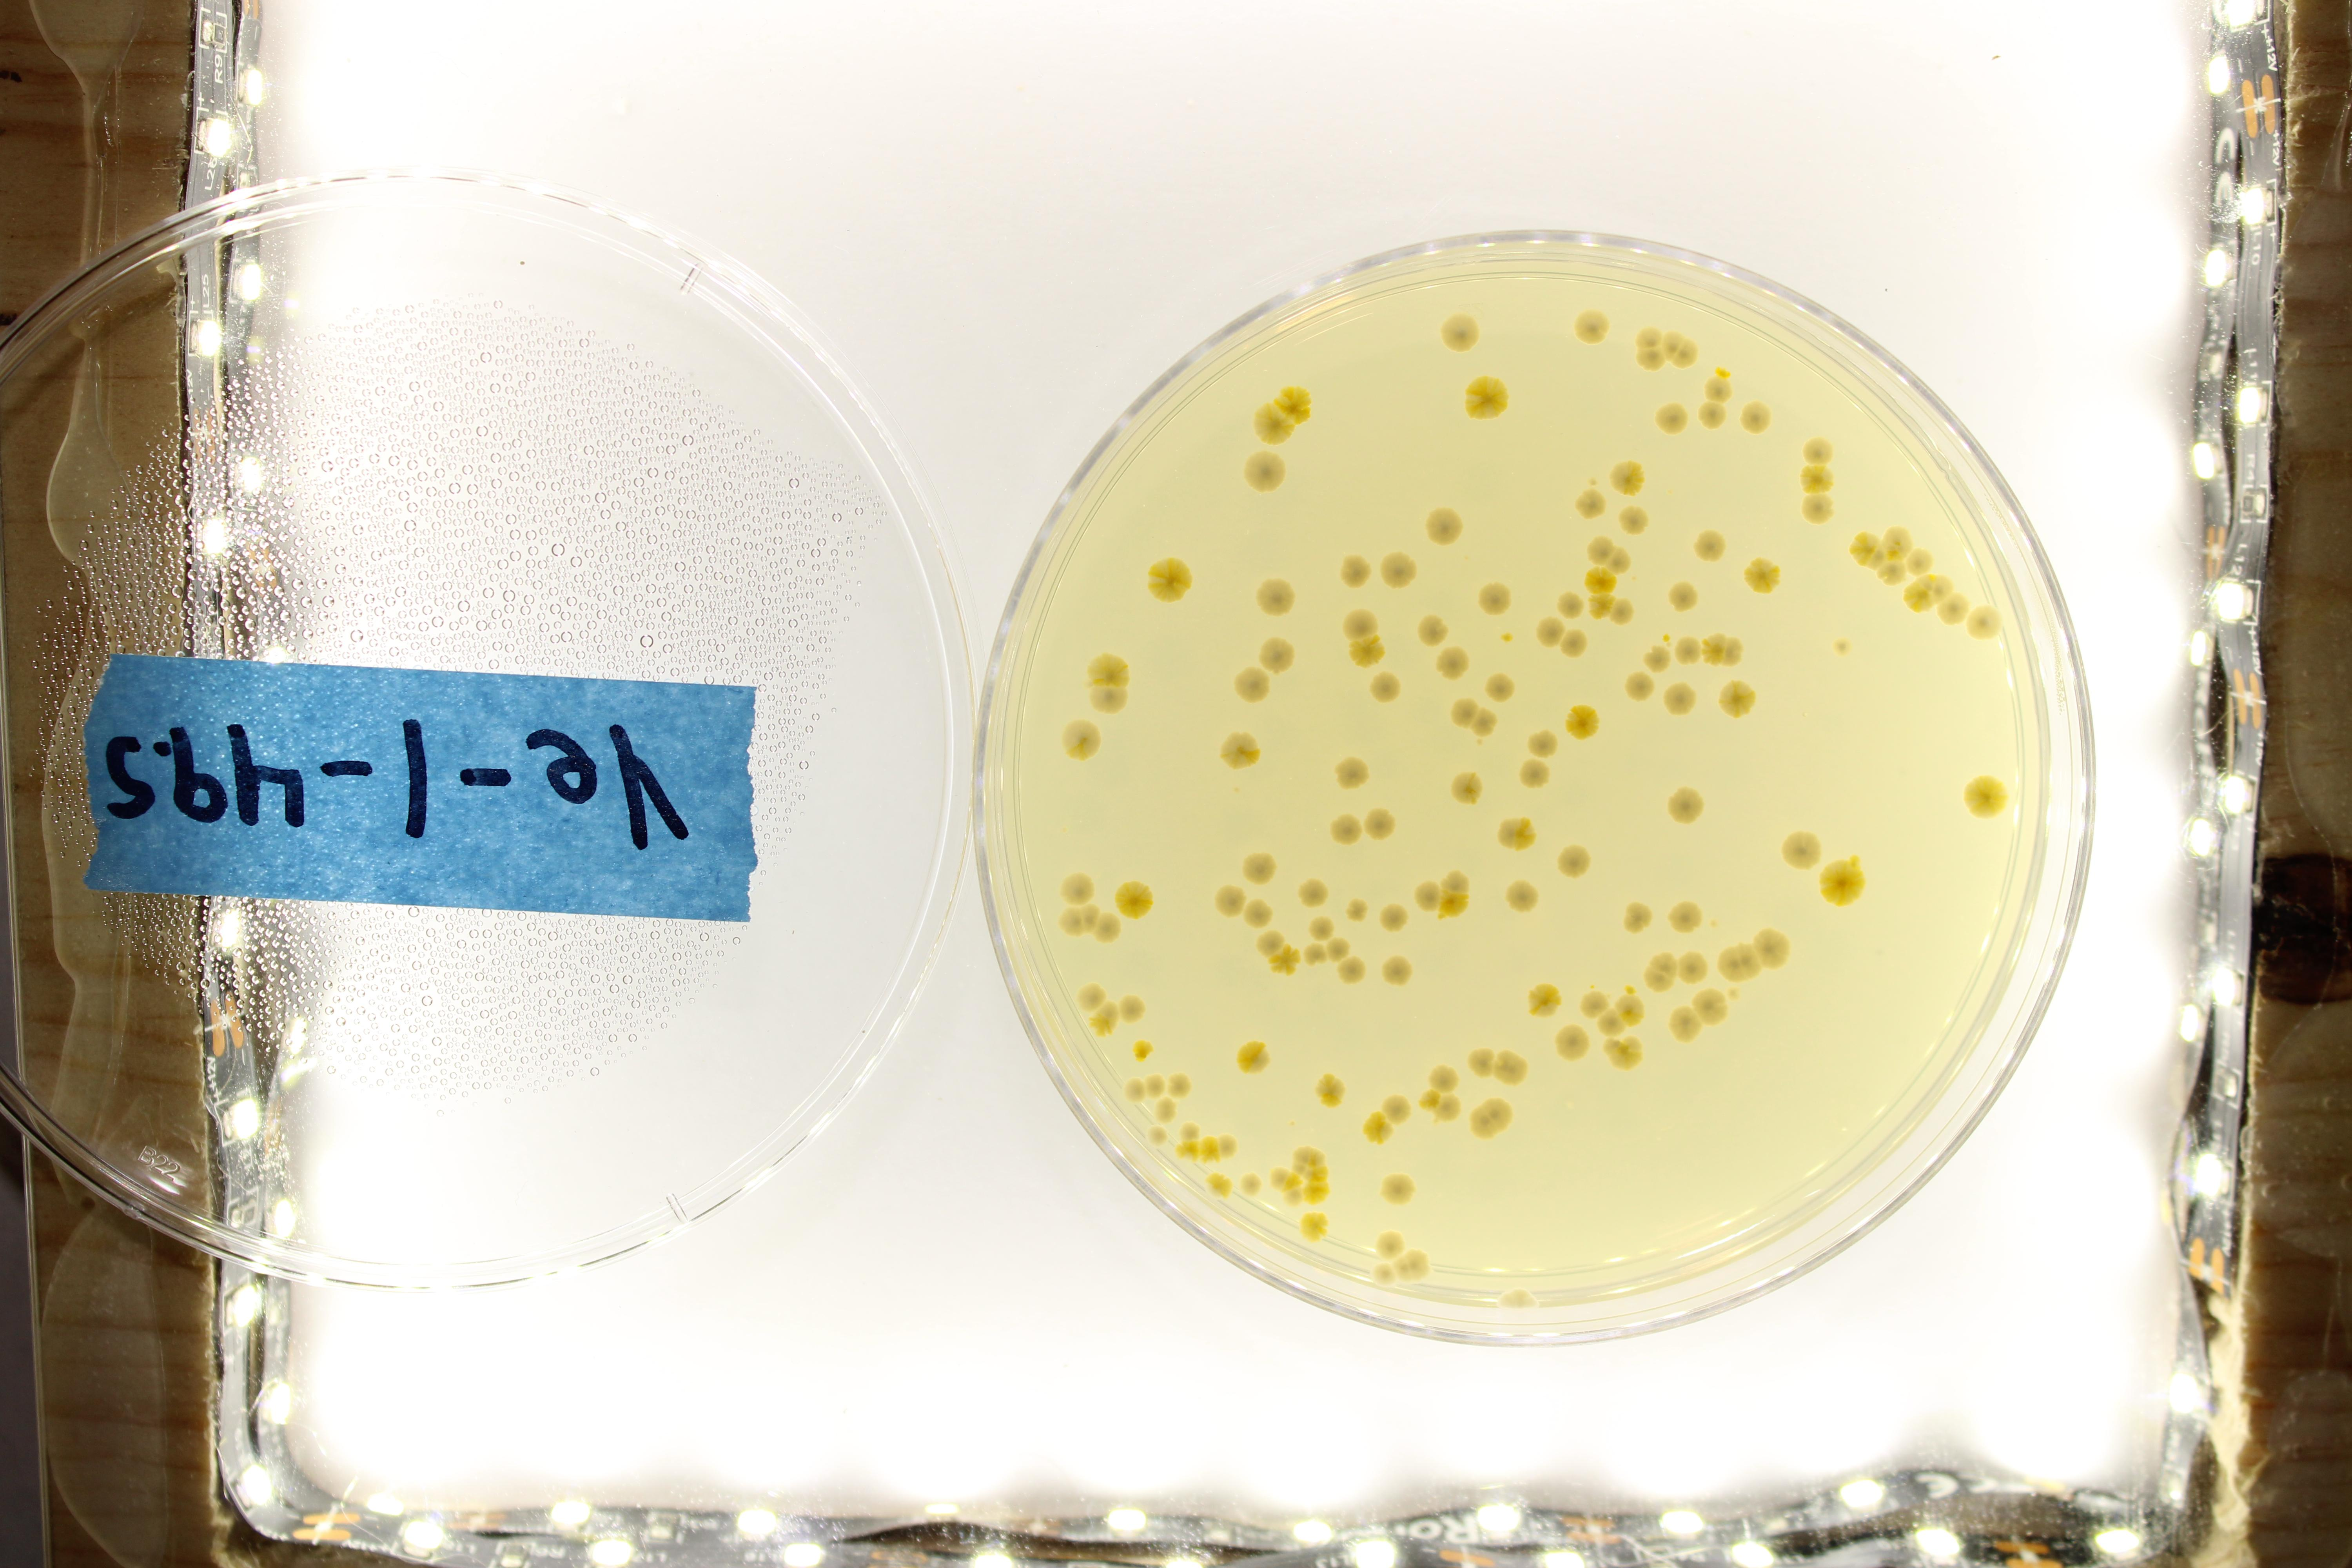wild colony: (1820, 859, 1866, 906), (1148, 557, 1192, 603), (1964, 775, 2009, 819), (1465, 376, 1508, 420), (1254, 404, 1296, 446), (1083, 653, 1130, 688), (1062, 720, 1102, 761), (1220, 731, 1261, 770), (1115, 881, 1154, 919), (1272, 387, 1311, 425), (1602, 1036, 1643, 1072), (1744, 557, 1782, 594), (1719, 679, 1755, 718), (1610, 460, 1645, 496), (1349, 633, 1385, 668), (1566, 705, 1599, 740), (1528, 983, 1562, 1017), (1237, 1040, 1270, 1073), (1315, 1073, 1346, 1108), (1268, 943, 1301, 975), (1849, 532, 1879, 566), (1363, 1112, 1394, 1145), (1800, 465, 1835, 494), (1452, 772, 1483, 805), (1903, 582, 1935, 613), (1615, 995, 1644, 1027), (1584, 566, 1618, 595), (1300, 1212, 1328, 1242), (1701, 633, 1727, 666), (1515, 817, 1537, 852), (1205, 1172, 1233, 1200), (1877, 561, 1906, 586), (1588, 595, 1617, 619), (1441, 893, 1470, 917), (1303, 1183, 1330, 1205), (1199, 1136, 1220, 1163), (1089, 1013, 1113, 1037), (1882, 526, 1910, 546), (1175, 1140, 1199, 1163), (1419, 1089, 1440, 1112), (1281, 1173, 1303, 1194), (1133, 1041, 1153, 1061), (1309, 1147, 1328, 1168), (1305, 1168, 1328, 1183), (1915, 574, 1936, 592), (1886, 550, 1904, 561), (1715, 367, 1731, 379), (1849, 855, 1860, 867), (1624, 985, 1637, 995), (1501, 632, 1514, 642), (1438, 911, 1446, 920), (1662, 634, 1671, 642), (1233, 787, 1240, 793), (1667, 488, 1673, 495), (1289, 1122, 1296, 1126), (1590, 984, 1595, 989)
yellow colony: (1244, 451, 1287, 493), (1754, 927, 1790, 970), (1782, 831, 1822, 870), (1425, 507, 1465, 546), (1256, 578, 1295, 616), (1441, 314, 1479, 353), (1692, 989, 1728, 1026), (1668, 786, 1704, 824), (1234, 667, 1271, 703), (1259, 637, 1294, 674), (1381, 551, 1416, 588), (1669, 1005, 1702, 1044), (1555, 1025, 1590, 1061), (1574, 310, 1610, 344), (1966, 606, 2002, 640), (1495, 1049, 1528, 1085), (1717, 946, 1749, 983), (1343, 609, 1378, 641), (1668, 900, 1702, 934), (1663, 682, 1697, 716), (1479, 1098, 1512, 1132), (1335, 757, 1369, 790), (1380, 1174, 1416, 1205), (1557, 844, 1591, 878), (1655, 403, 1689, 436), (1436, 646, 1469, 680), (1060, 873, 1095, 905), (1243, 853, 1277, 885), (1340, 555, 1372, 589), (1479, 582, 1511, 615), (1506, 880, 1539, 912), (1936, 593, 1970, 625), (1740, 401, 1771, 434), (1364, 808, 1396, 840), (1215, 885, 1247, 918), (1330, 815, 1363, 845), (1417, 615, 1448, 646), (1370, 671, 1401, 703), (1801, 494, 1834, 524), (1090, 688, 1128, 714), (1679, 951, 1708, 984), (1576, 489, 1607, 520), (1694, 530, 1726, 561), (1382, 955, 1412, 986), (1075, 983, 1107, 1012), (1624, 901, 1652, 934), (1737, 942, 1762, 978), (1485, 673, 1515, 702), (1243, 899, 1273, 929), (1519, 759, 1549, 788), (1470, 1106, 1497, 1140), (1668, 582, 1698, 612), (1375, 1231, 1405, 1261), (1587, 536, 1616, 566), (1625, 671, 1655, 701), (1536, 617, 1565, 647), (1450, 698, 1479, 728), (1802, 438, 1834, 465), (1381, 1095, 1411, 1124), (1299, 878, 1328, 908), (1428, 1065, 1459, 1094), (1670, 338, 1699, 369), (1619, 506, 1649, 535), (1093, 912, 1121, 942), (1380, 903, 1409, 932), (1338, 955, 1366, 985), (1528, 730, 1557, 757), (1414, 881, 1440, 912), (1650, 952, 1679, 980), (1644, 966, 1674, 993), (1497, 1290, 1538, 1309), (1704, 377, 1733, 403), (1597, 1008, 1626, 1036), (1256, 931, 1285, 958), (1581, 991, 1610, 1018), (1560, 628, 1587, 657), (1468, 1049, 1494, 1078), (1471, 707, 1497, 737), (1698, 403, 1726, 430), (1119, 995, 1146, 1024), (1643, 646, 1671, 673), (1906, 548, 1933, 576), (1675, 636, 1701, 665), (1557, 591, 1584, 619), (1635, 349, 1666, 372), (1058, 907, 1083, 936), (1720, 637, 1743, 667), (1435, 1094, 1461, 1121), (1408, 1250, 1429, 1282), (1607, 546, 1631, 575), (1441, 870, 1469, 893), (1166, 1073, 1192, 1099), (1610, 598, 1634, 625), (1308, 917, 1334, 942), (1663, 331, 1683, 362), (1636, 327, 1663, 349), (1154, 1098, 1178, 1123), (1370, 1263, 1396, 1287), (1497, 818, 1517, 849), (1935, 575, 1953, 606), (1303, 943, 1327, 967), (1328, 938, 1350, 963), (1240, 1173, 1263, 1197), (1345, 899, 1369, 922), (1100, 1002, 1119, 1029), (1145, 1073, 1166, 1098), (1124, 1078, 1145, 1103), (1269, 1167, 1290, 1191), (1220, 1134, 1239, 1158), (1083, 906, 1100, 933), (1147, 1126, 1168, 1147), (1832, 638, 1852, 657), (1179, 1121, 1200, 1140), (1282, 1188, 1303, 1207), (1396, 1256, 1408, 1282), (1292, 1146, 1309, 1164), (1897, 542, 1913, 558), (1728, 987, 1740, 1001), (1293, 1164, 1308, 1174), (1880, 543, 1895, 552), (1709, 919, 1718, 928), (1060, 825, 1069, 834), (1477, 737, 1484, 746), (1590, 478, 1597, 486), (1432, 1118, 1439, 1125), (1464, 555, 1469, 561), (1666, 642, 1671, 648), (1631, 576, 1637, 581)
